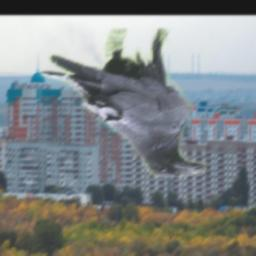Crow: (39, 29, 205, 178)
